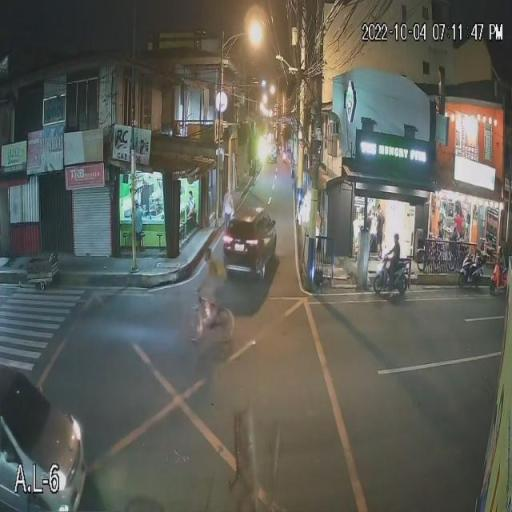helmet: (390, 229, 402, 248)
motorcycle: (374, 259, 414, 298)
rider: (383, 225, 404, 280)
